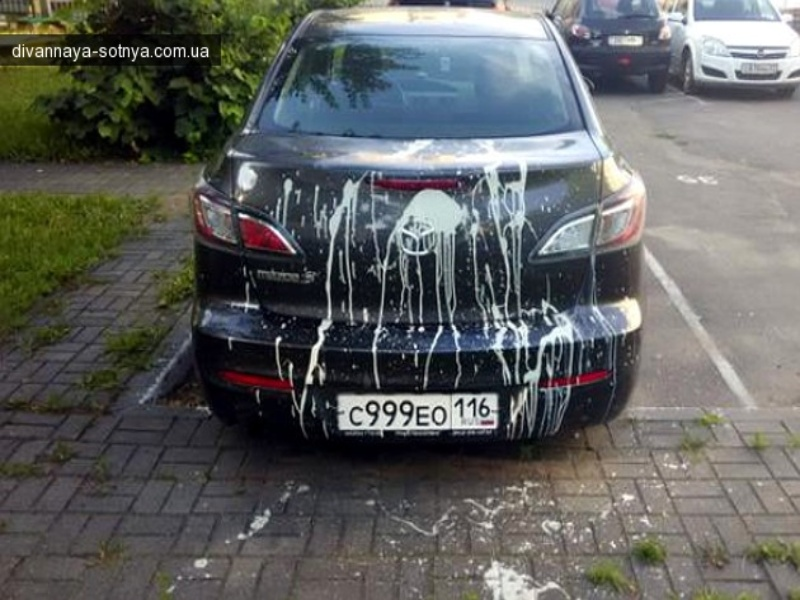car: (190, 7, 647, 450), (662, 1, 800, 92), (551, 1, 671, 90)
plate: (340, 394, 497, 428)
